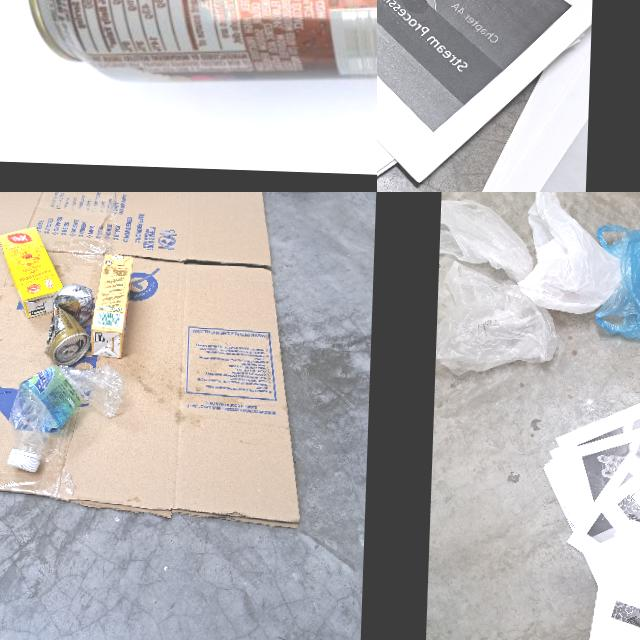aba de lata: (62, 344, 76, 360)
caixinha: (0, 225, 66, 319), (90, 254, 133, 359)
garrafa plástica: (8, 361, 122, 454)
lata: (17, 0, 377, 97), (42, 282, 94, 368)
papel: (377, 0, 600, 192), (534, 395, 640, 640), (454, 30, 591, 192)
papelão: (0, 192, 314, 525)
sacola plástica: (434, 256, 560, 380), (515, 192, 625, 314), (438, 196, 535, 284), (592, 224, 640, 340)
tampa plástica: (6, 452, 40, 473)
